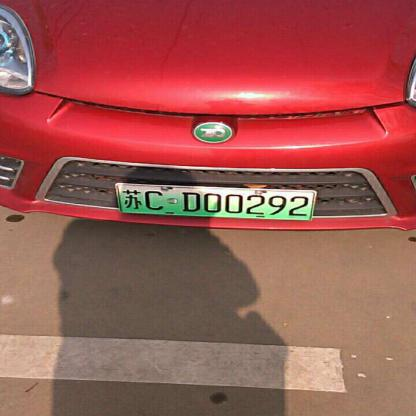lp: (116, 182, 316, 219)
